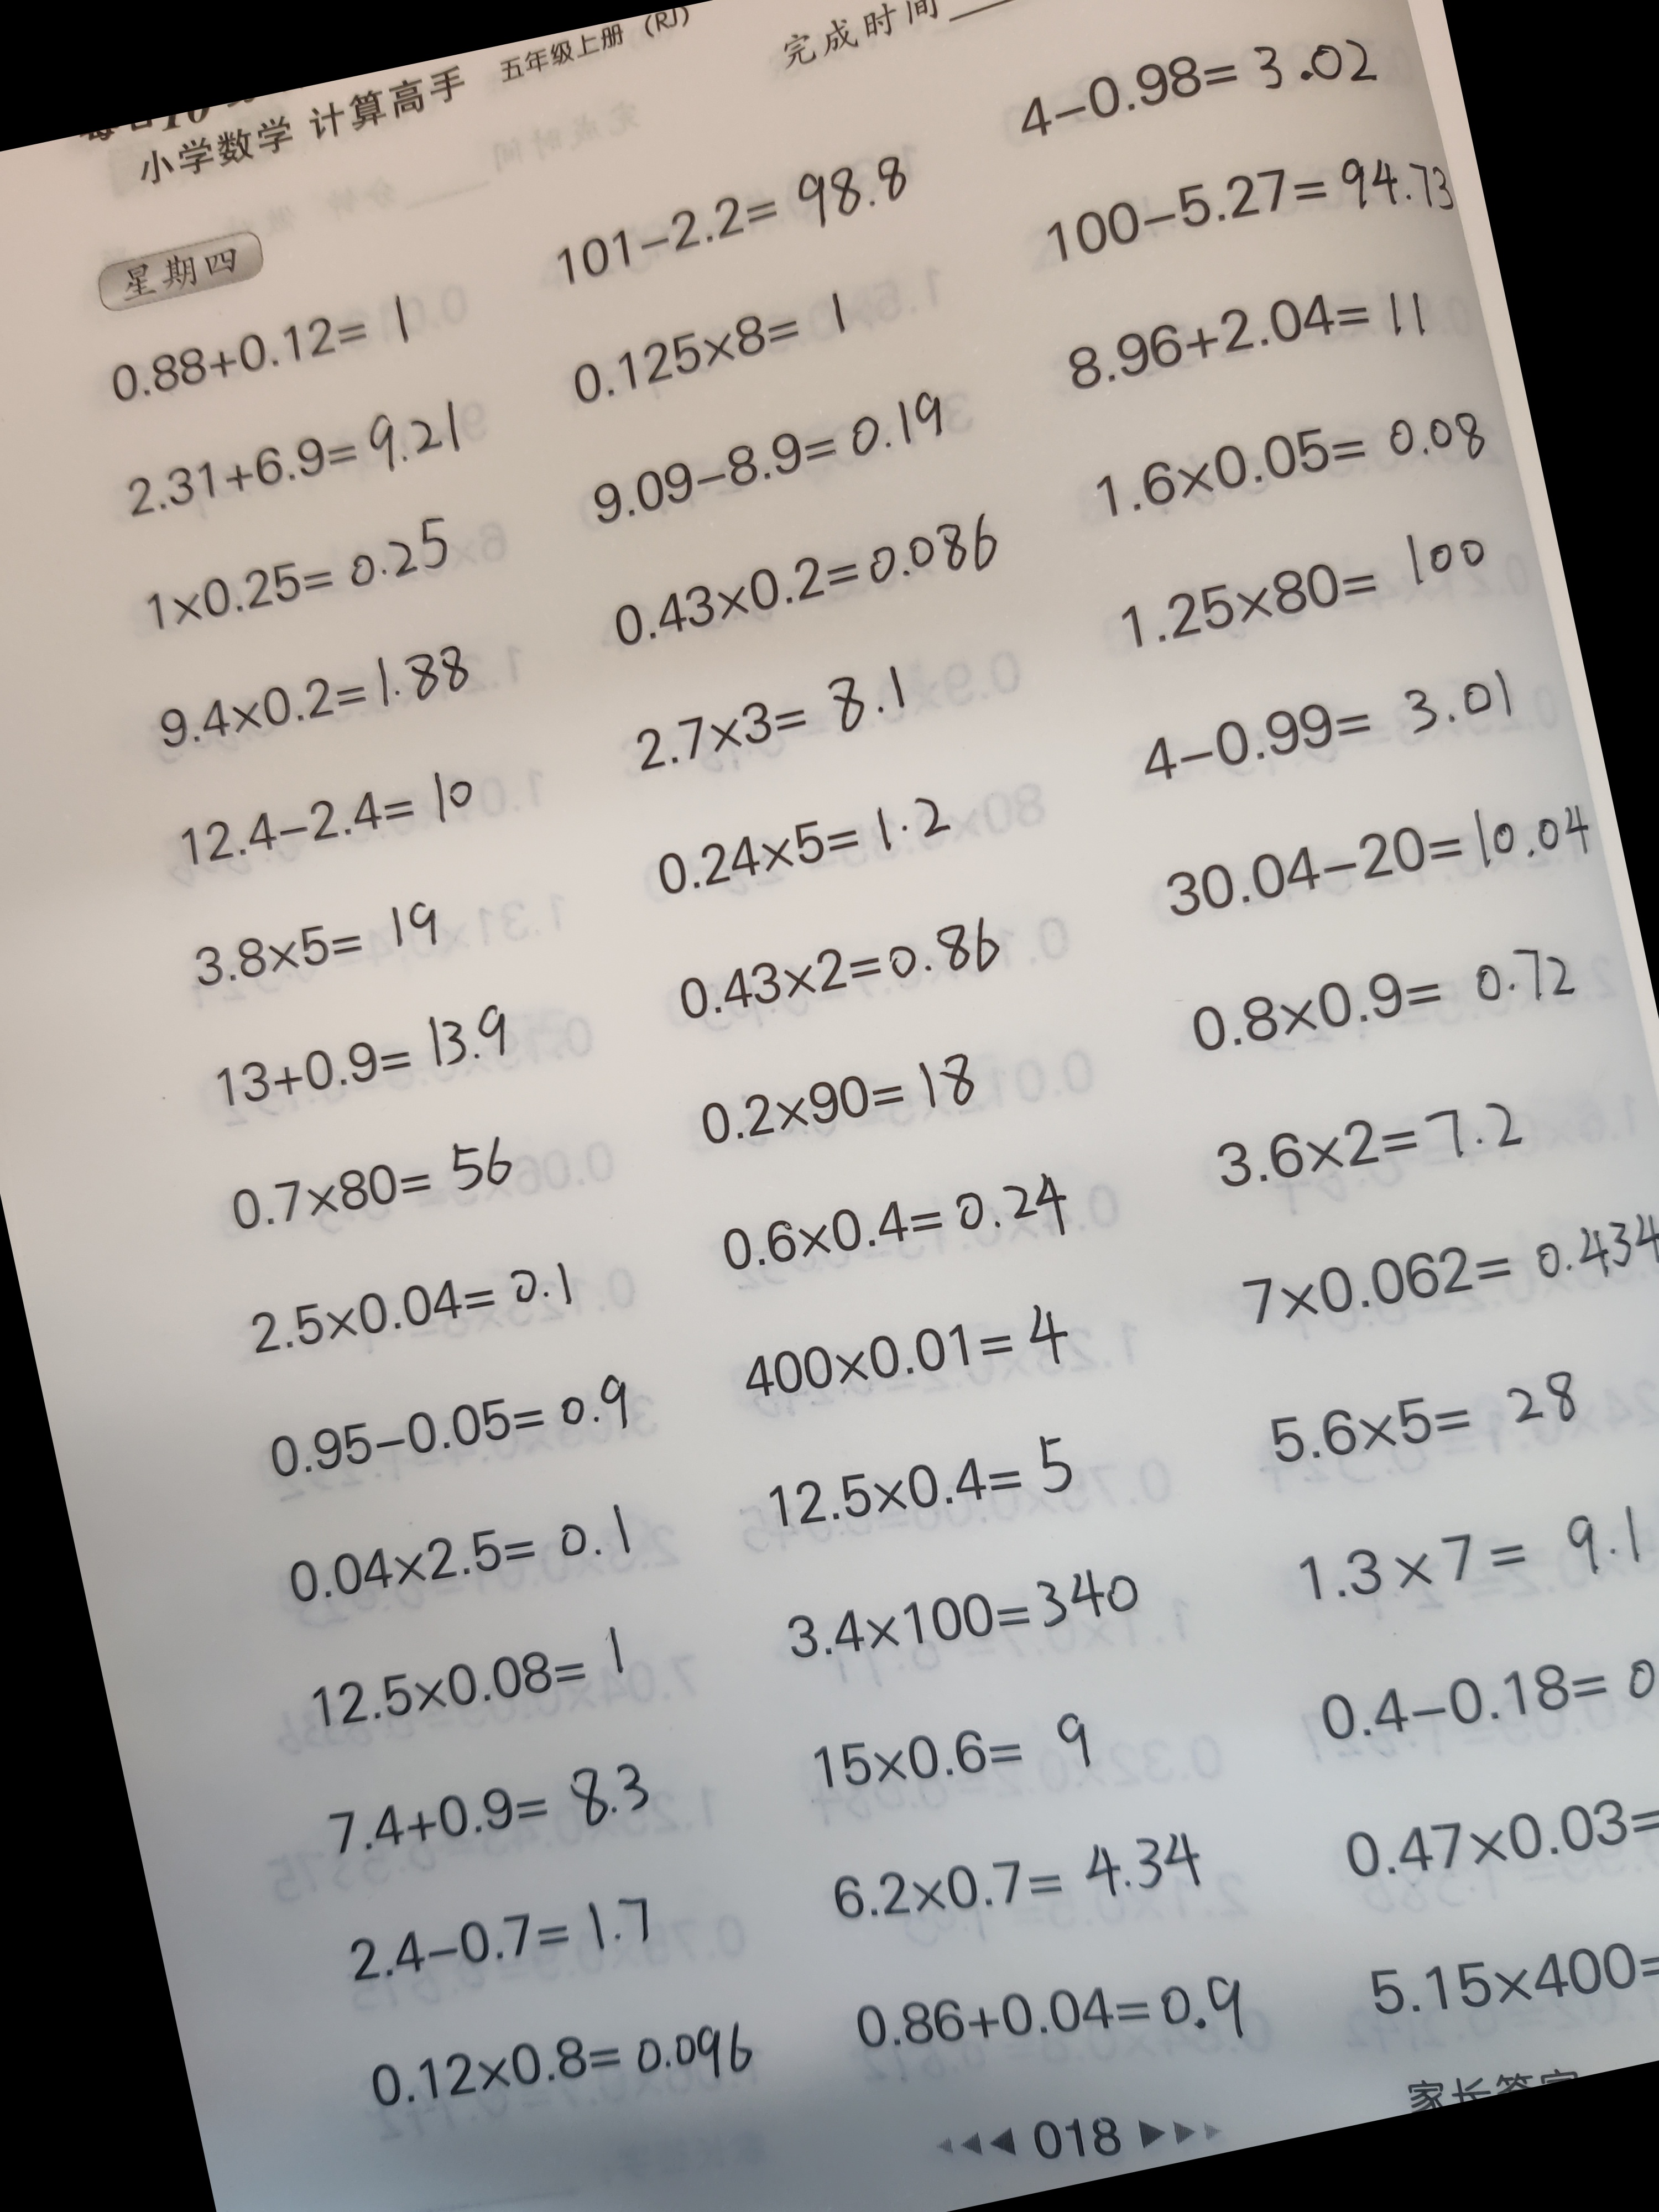equation: (352, 1996, 765, 2152), (853, 1943, 1252, 2094), (1153, 786, 1587, 925), (1229, 1201, 1659, 1335), (595, 513, 1005, 646), (262, 1367, 651, 1500), (1178, 933, 1578, 1062), (542, 142, 920, 275), (703, 1155, 1073, 1290), (275, 1498, 656, 1628), (1085, 395, 1483, 520), (1288, 1489, 1653, 1624), (1057, 265, 1437, 395), (831, 1812, 1205, 1942), (1126, 658, 1526, 780), (310, 1746, 672, 1879), (107, 395, 479, 524), (1311, 1621, 1659, 1757), (1008, 12, 1371, 142), (781, 1547, 1142, 1678), (1114, 528, 1496, 645), (1336, 1747, 1659, 1885), (581, 400, 972, 512), (1369, 1888, 1659, 2038), (656, 908, 1019, 1027), (233, 1250, 600, 1366), (806, 1688, 1121, 1824), (755, 1426, 1092, 1552), (226, 1123, 541, 1256), (734, 1294, 1084, 1414), (1251, 1355, 1585, 1481), (196, 999, 524, 1125), (128, 517, 472, 637), (152, 639, 491, 757), (1211, 1076, 1533, 1200), (342, 1881, 671, 2000), (310, 1626, 655, 1739), (95, 293, 434, 406), (563, 288, 909, 398), (687, 1044, 1000, 1162), (643, 791, 963, 907), (164, 760, 489, 873), (174, 890, 480, 1002), (620, 663, 924, 775)
